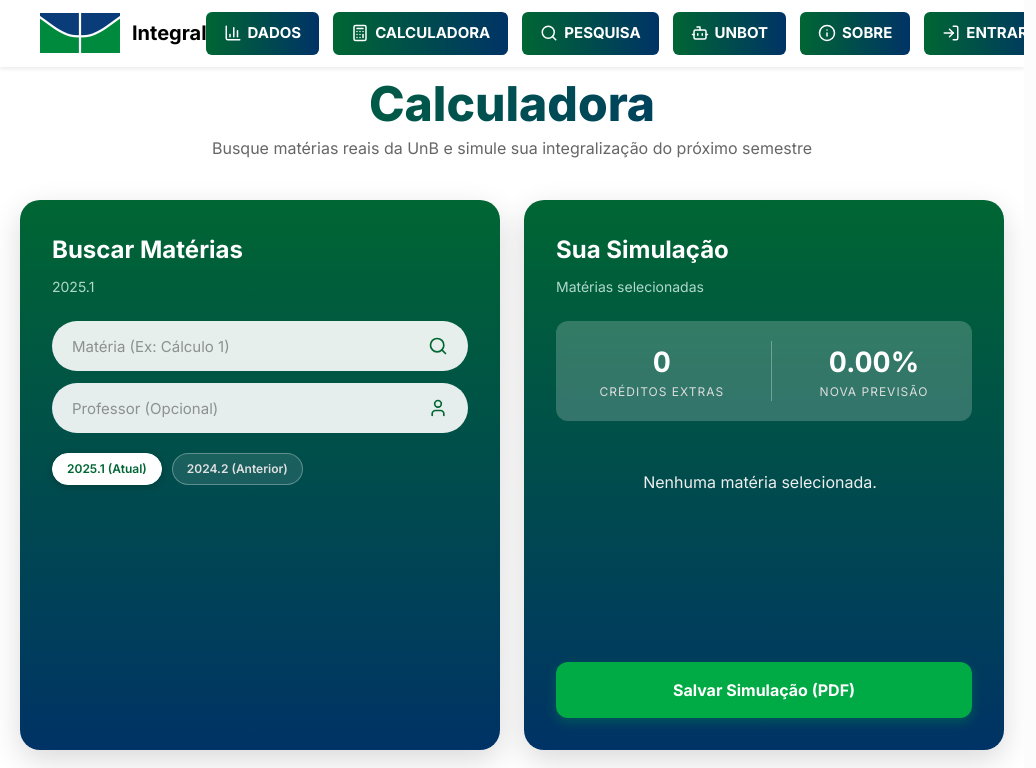
Test: Página de Calculadora › deve realizar uma busca e exibir resultados
The image size is (1036, 768).
Type "Algoritmos" into the field with placeholder "Matéria (Ex: Cálculo 1)". click: (260, 346)
box: x1=52 y1=321 x2=468 y2=371
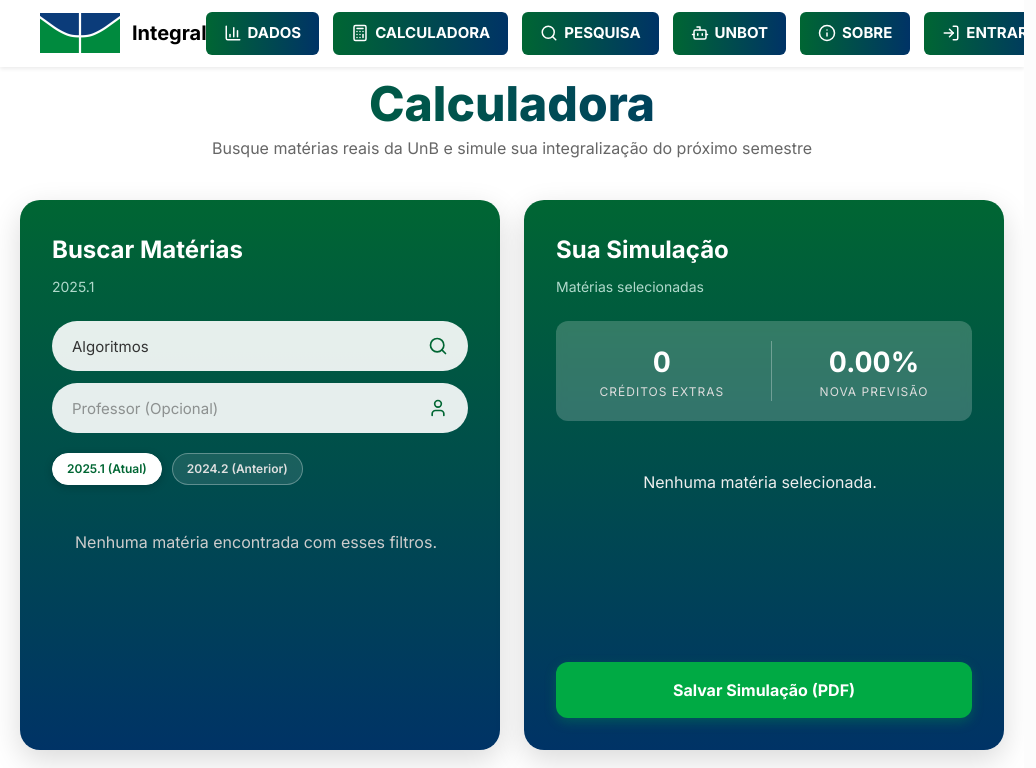
Click the button named "Buscar". click: (438, 346)
box: x1=428 y1=336 x2=448 y2=356
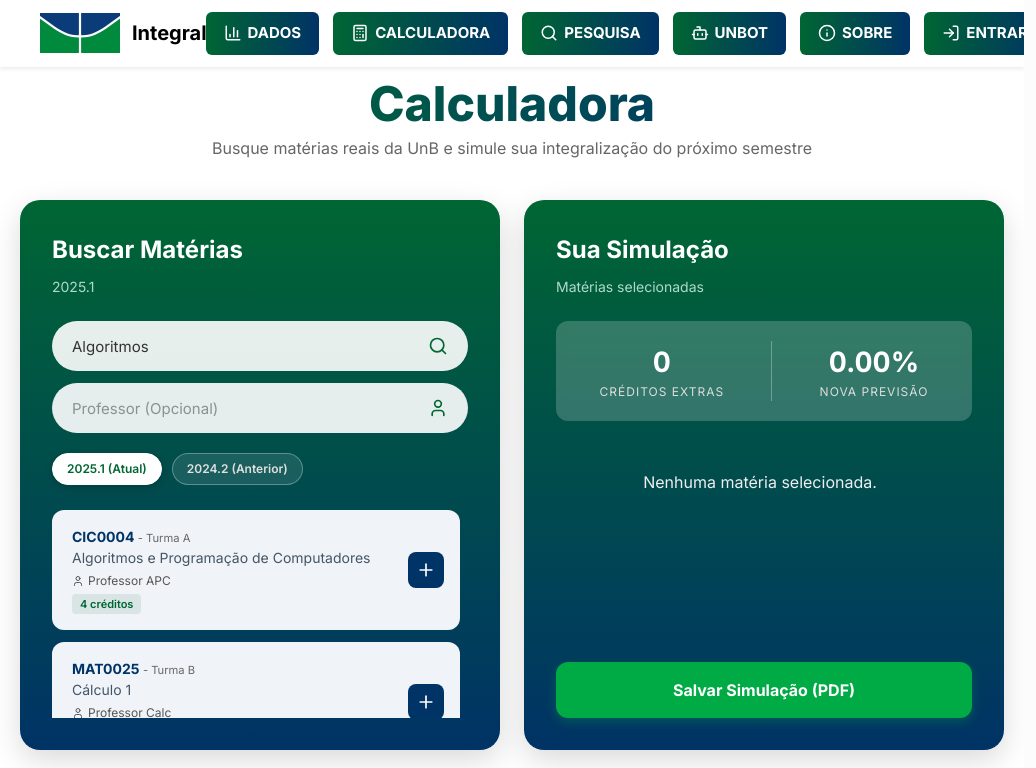
Check: the text "Algoritmos e Programação de Computadores" is shown, box x1=72 y1=547 x2=396 y2=568
Check: the text "Cálculo 1" is shown, box x1=72 y1=681 x2=131 y2=698
